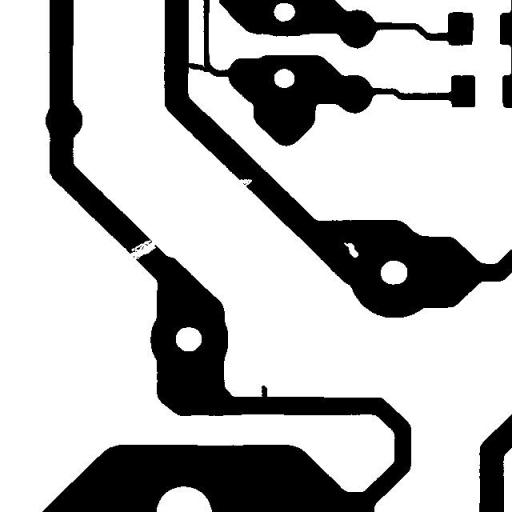mousebite: (228, 171, 259, 194)
open: (122, 232, 164, 266)
pin-hole: (336, 234, 366, 265)
short: (179, 55, 218, 79)
spur: (254, 378, 274, 407)
